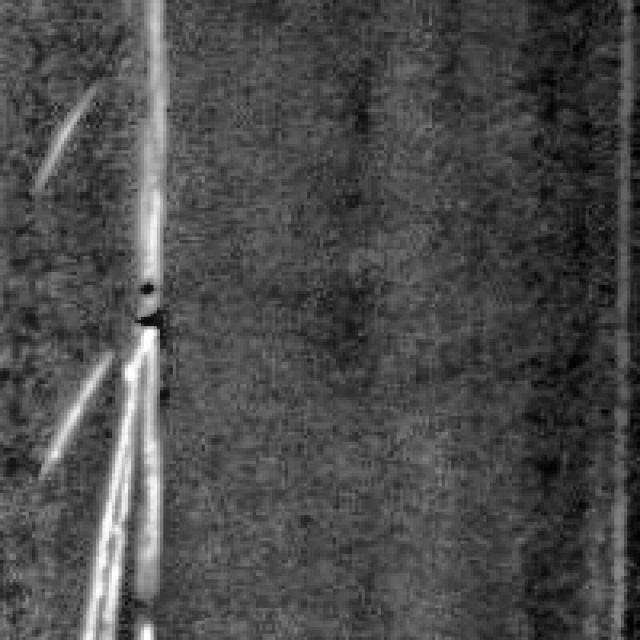Inclusion: (51, 0, 176, 630)
